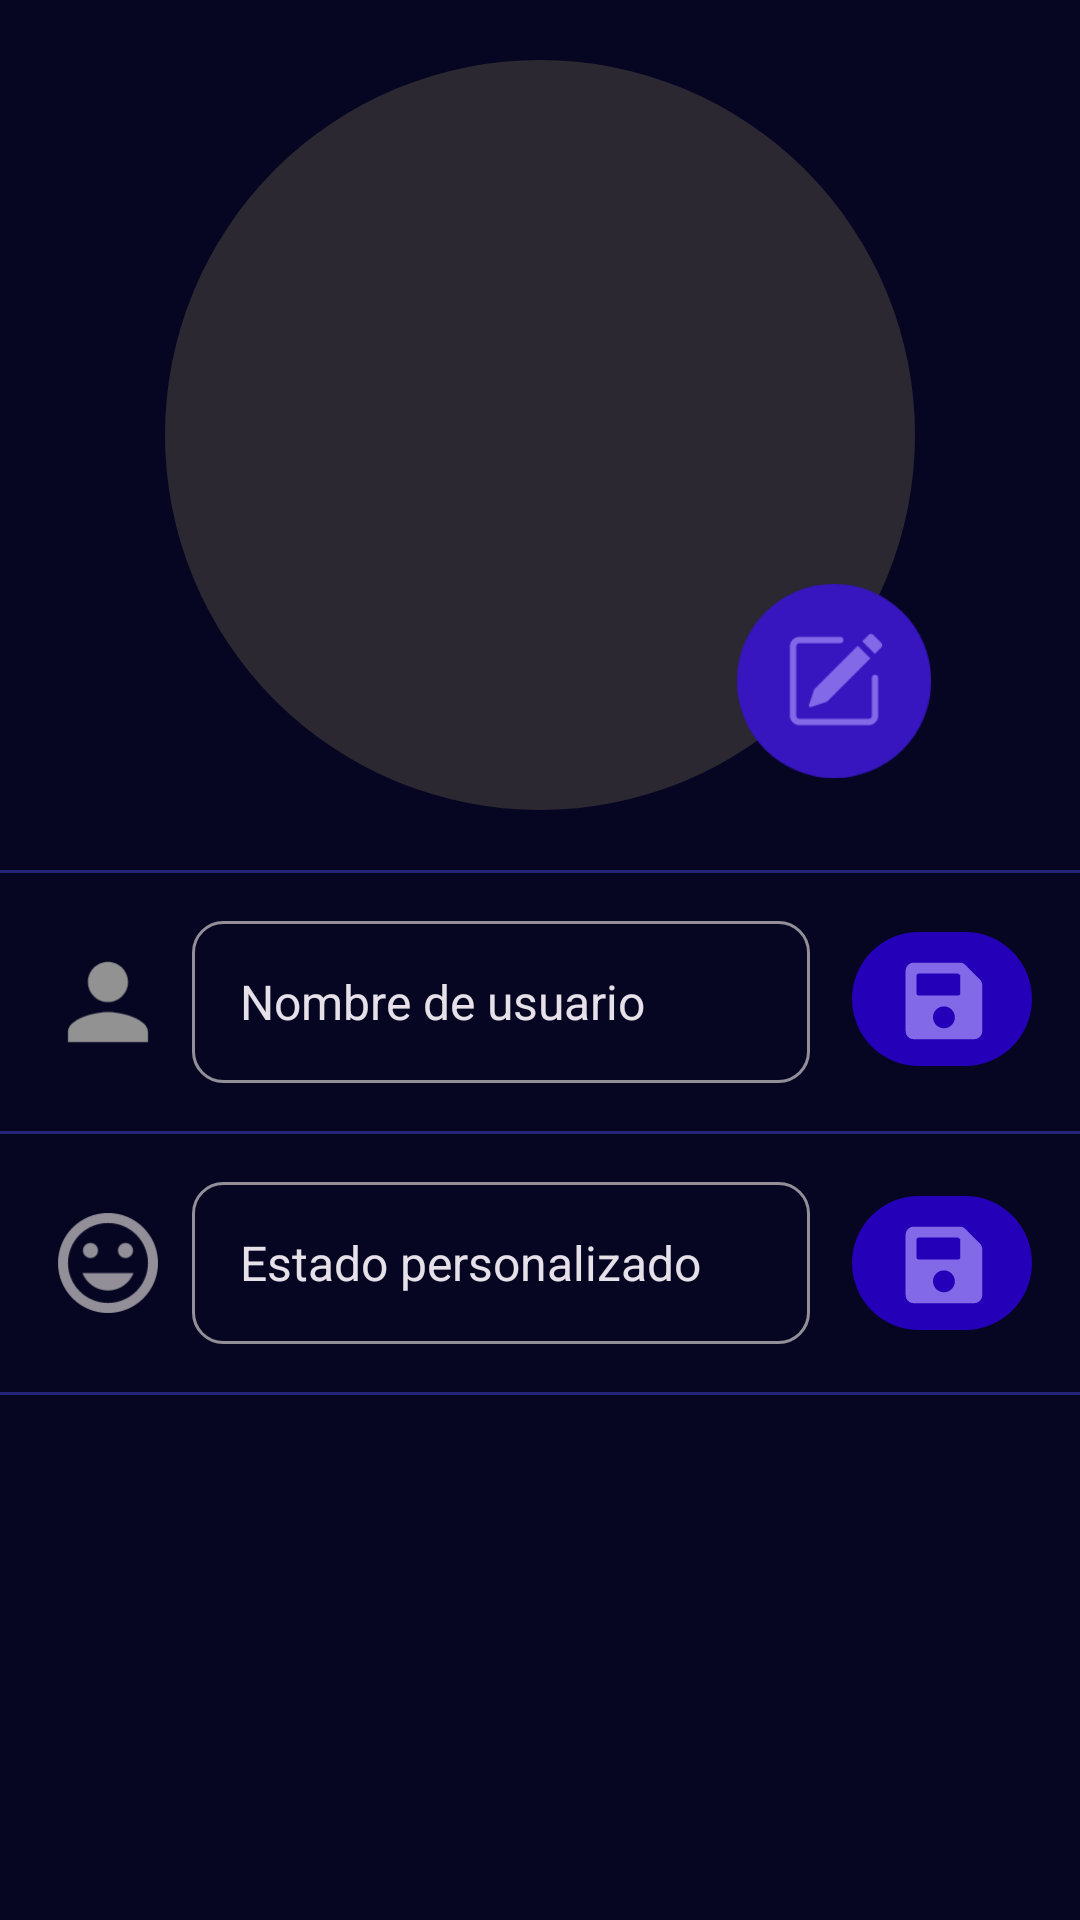

Screen size 1080w x 1920h. Icon name, then its box in pixels as (x1, y1, x2, y2):
save: (852, 932, 1032, 1066), (852, 1196, 1032, 1330)
tag faces: (58, 1213, 158, 1313)
